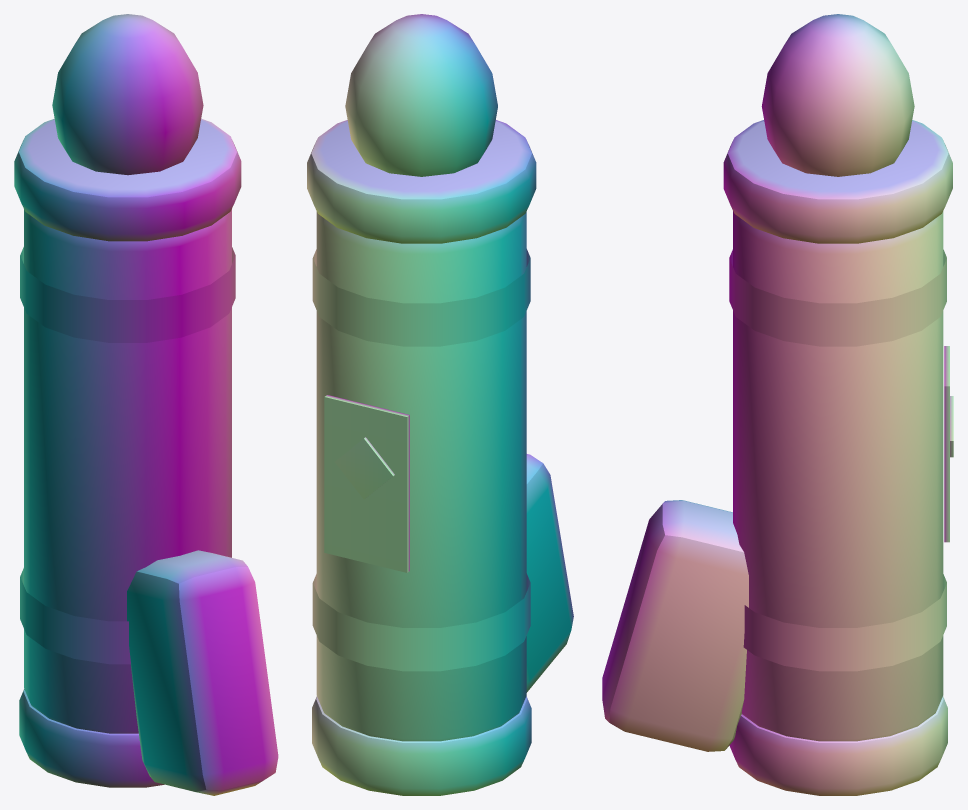
The model's file is gad_signal.glb.
The picture shows the model from 3 angles, left to right: view 1: azimuth 30°, elevation 25°; view 2: azimuth 150°, elevation 25°; view 3: azimuth 270°, elevation 25°; orthographic projection.
Parts seen in each view (by area): view 1: signal; view 2: signal; view 3: signal.
Boxes of the visible parts, box(x1,y1,x2,y2) form: signal: box(14, 14, 278, 795); signal: box(307, 14, 573, 795); signal: box(602, 14, 953, 795).
Size of the model in its own units: 0.0473 by 0.17 by 0.0736.
